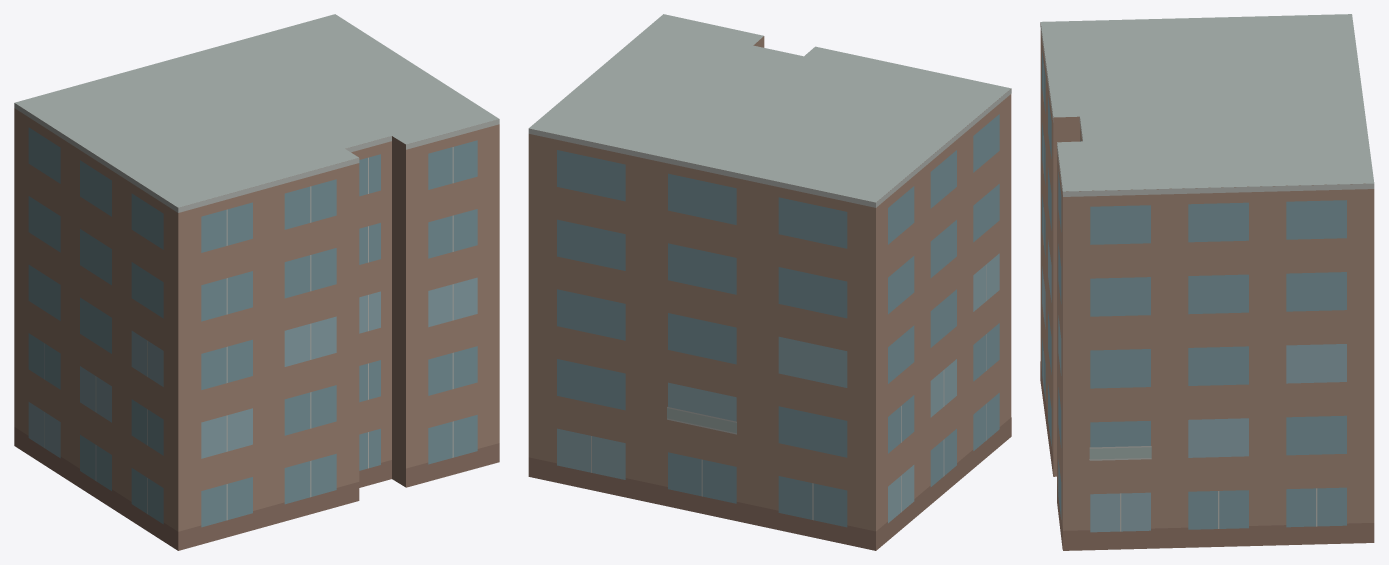
File: survey-upis-33003177.glb
3 renders of one model, left to right at view 1: azimuth 30°, elevation 25°; view 2: azimuth 150°, elevation 25°; view 3: azimuth 270°, elevation 25°, orthographic. The views are drawn at different scales.
Visible parts, largest first — view 1: survey-upis-33003177.tmp; view 2: survey-upis-33003177.tmp; view 3: survey-upis-33003177.tmp.
Part boxes in pixels (x1,y1,x2,y2): survey-upis-33003177.tmp: (14,14,499,550); survey-upis-33003177.tmp: (528,14,1011,550); survey-upis-33003177.tmp: (1040,14,1374,550).
Size of the model in its own units: 16.96 by 16 by 13.48.
